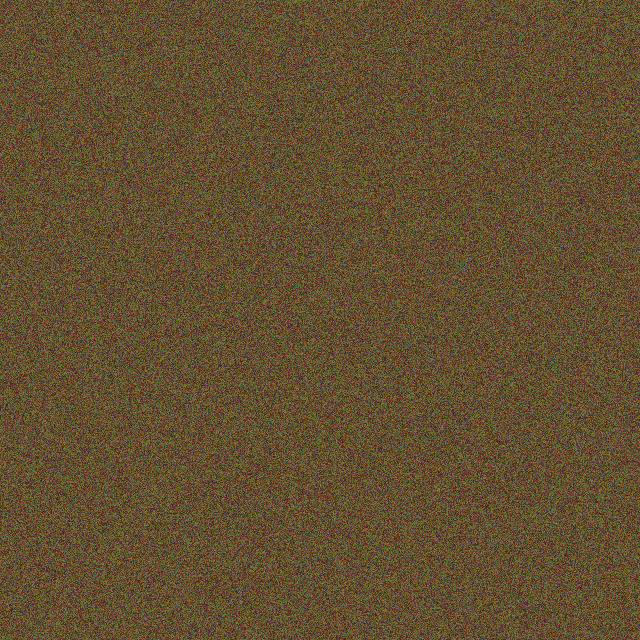unknown_man_made_object: (224, 331, 262, 425)
